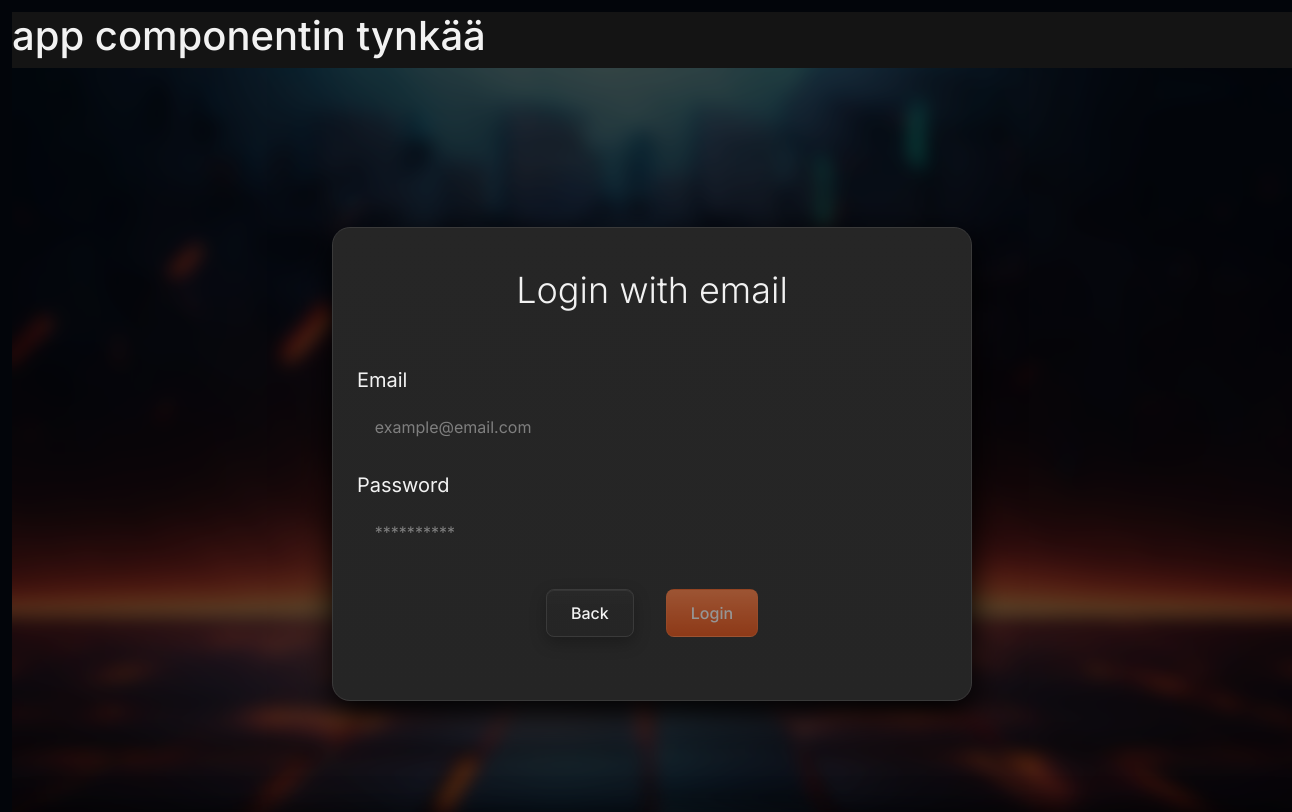
Test: Authentication & Dashboard › should show error message on invalid password and remain on login page
The width and height of the screenshot is (1292, 812).
Type "demo@mies.fi" into the field named "email" at (652, 427), box [357,403,947,451]
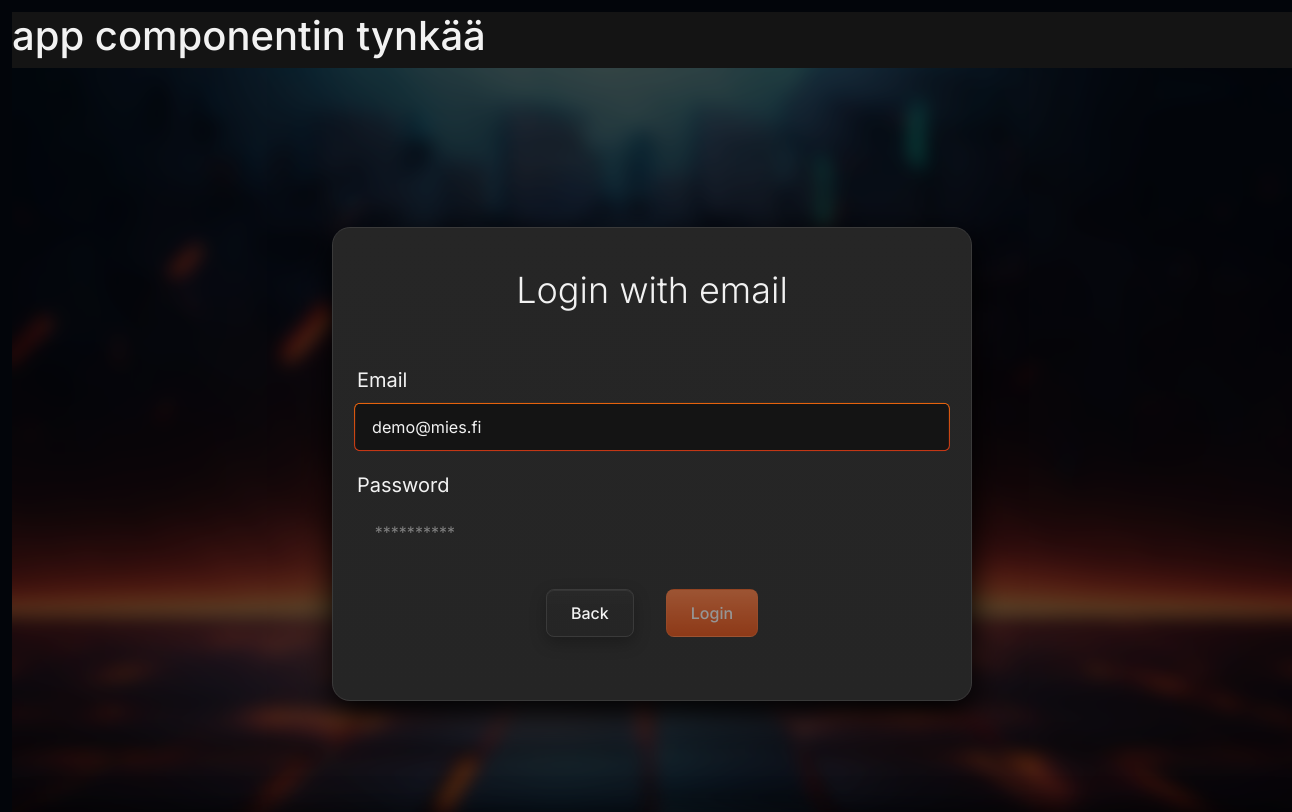
Type "WrongPassword123" into the password field named "password" at (652, 532), box [357,508,947,556]
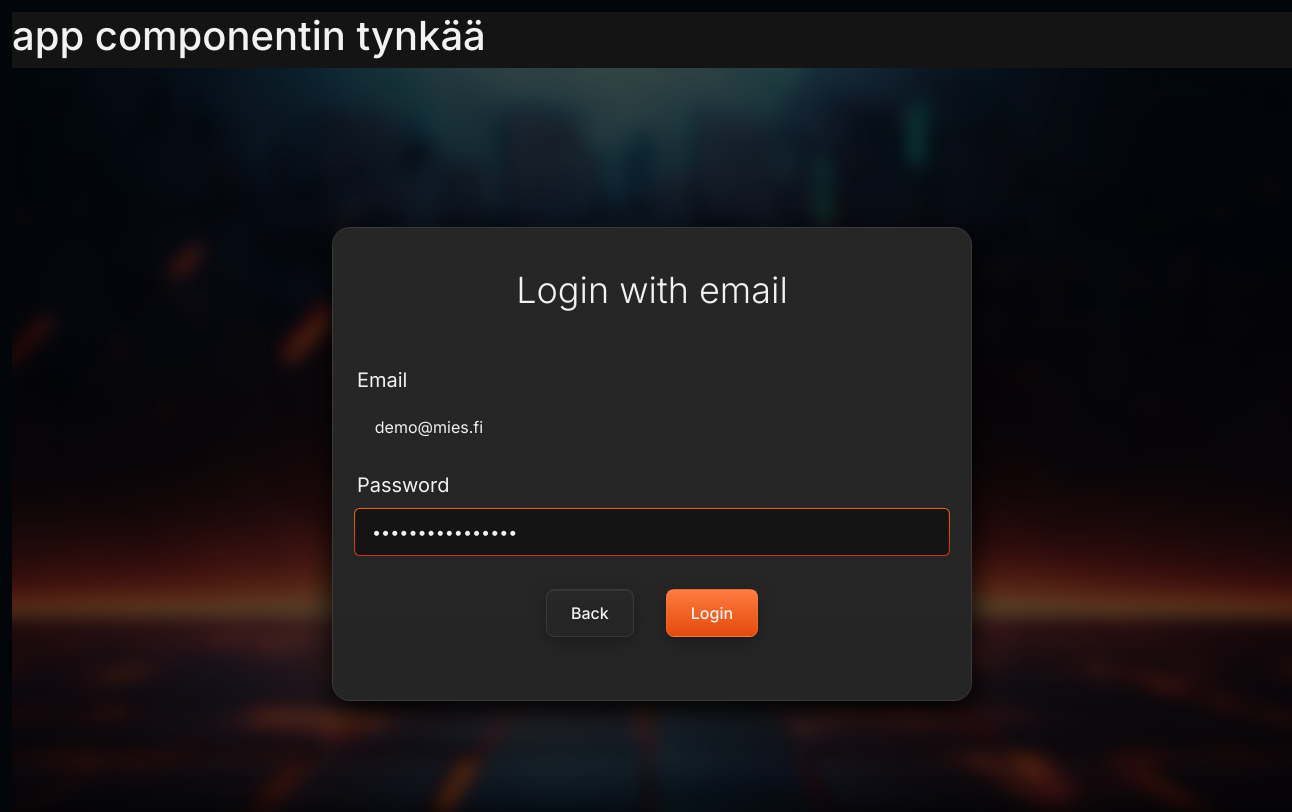
Submit the form, box [357,346,947,637]
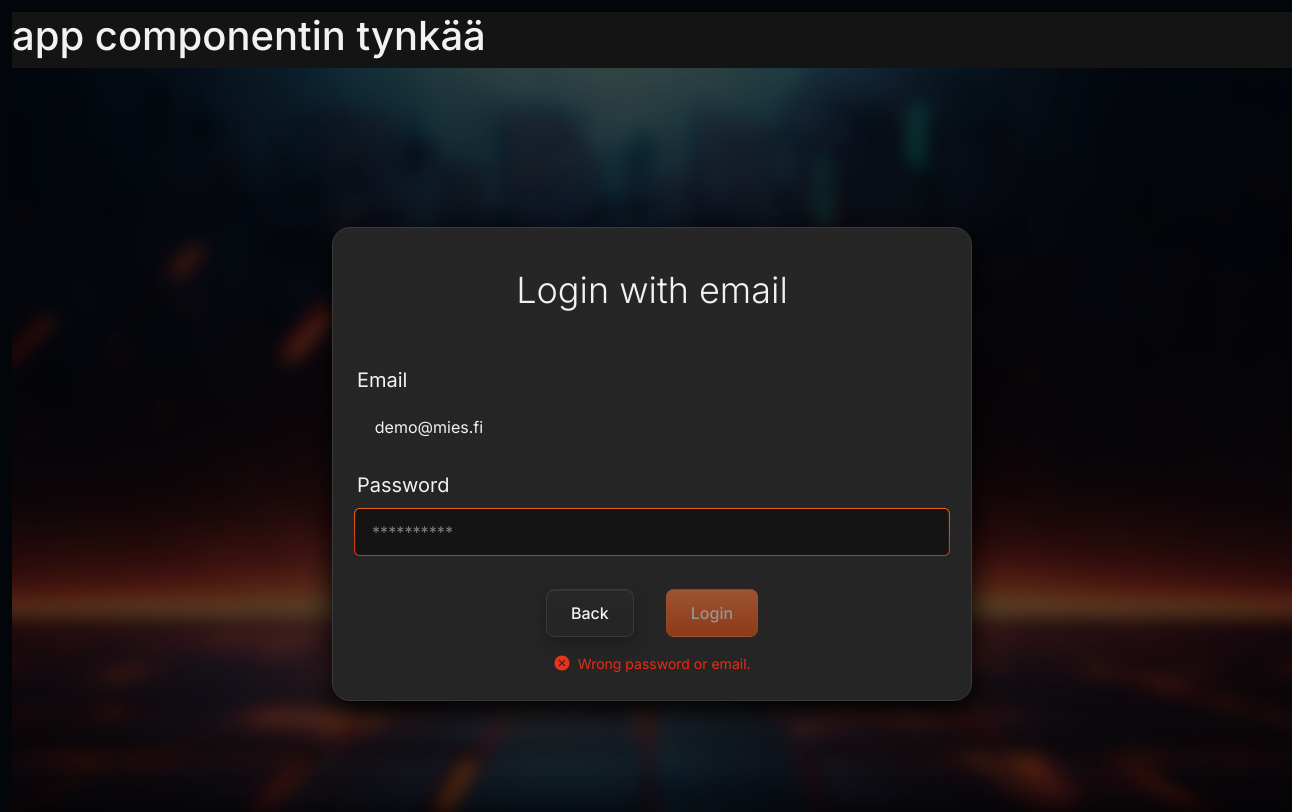
Check: the message with class "errorText" shows "Wrong password or email", box [553,653,750,674]
